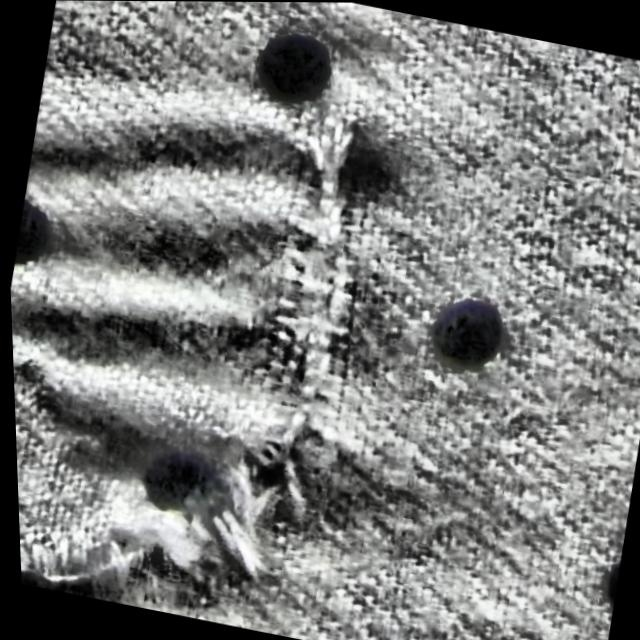Stitch: (181, 81, 450, 507), (9, 414, 342, 637)
